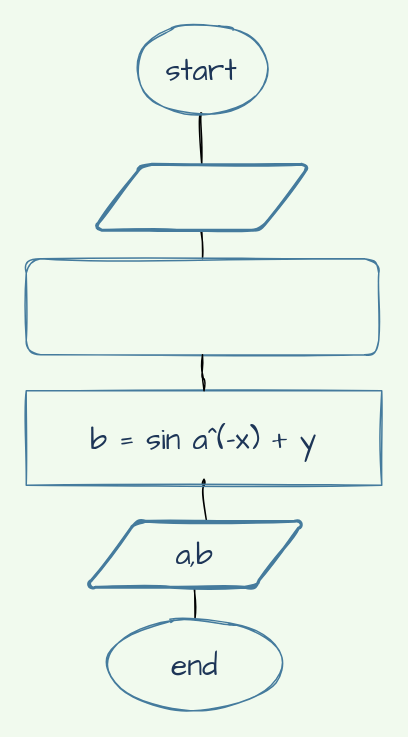
Some shapes in this 408 by 737 pixel diagram are drawn without their labels. The centre of each missing label's shape, as x and y in pixels:
"a = (y - √|x^3|)/(√x^3 - 5y^(-z)+z^2)" goes at pixel 202 306.
"x,y,z є R" goes at pixel 201 196.
